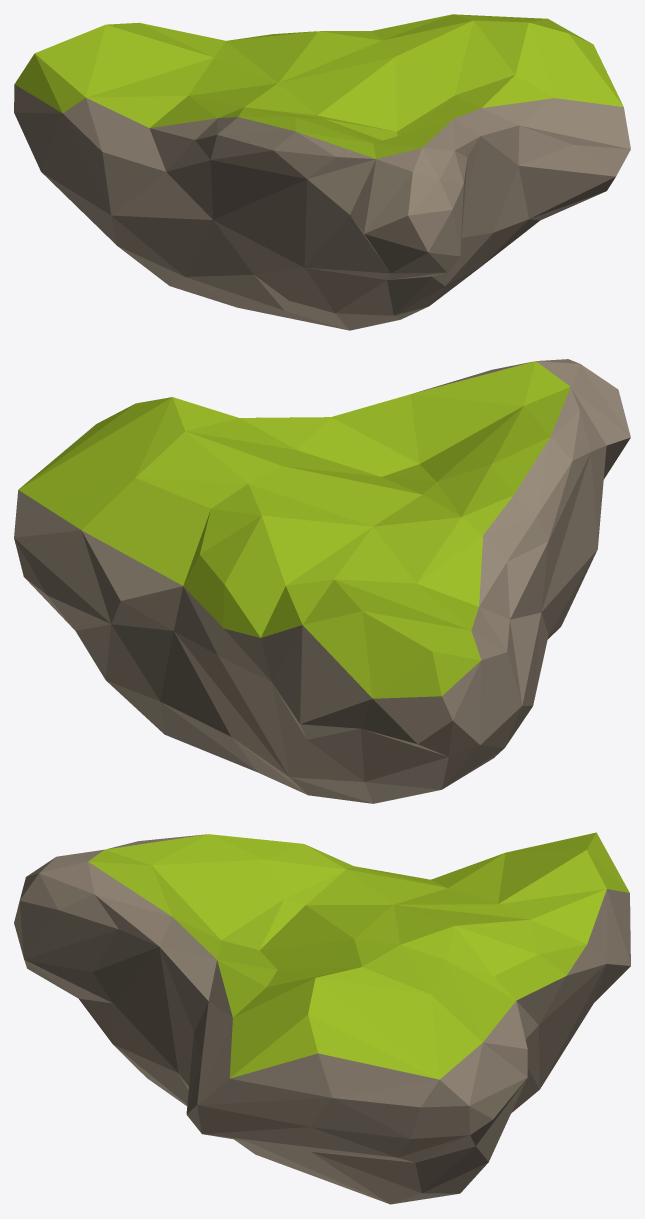
File: village_pack_rock_1.glb
3 renders of one model, top to bottom at view 1: azimuth 30°, elevation 25°; view 2: azimuth 150°, elevation 25°; view 3: azimuth 270°, elevation 25°, orthographic. The views are drawn at different scales.
Visible parts, largest first — view 1: rock 1_grass 1_0; view 2: rock 1_grass 1_0; view 3: rock 1_grass 1_0.
Boxes of the visible parts, x1,y1,x2,y2 form: rock 1_grass 1_0: (14,14,630,330); rock 1_grass 1_0: (14,359,630,803); rock 1_grass 1_0: (14,832,630,1204).
Size of the model in its own units: 7.65 by 4.06 by 8.25.
